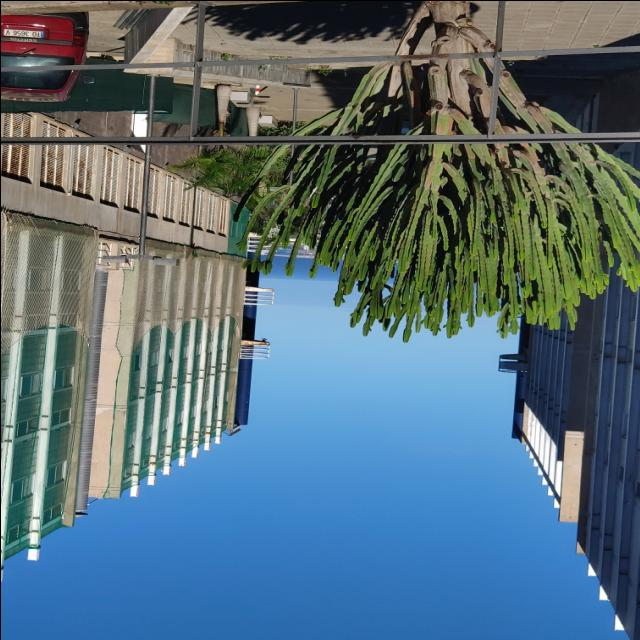Palm-Trees: (172, 83, 269, 195)
